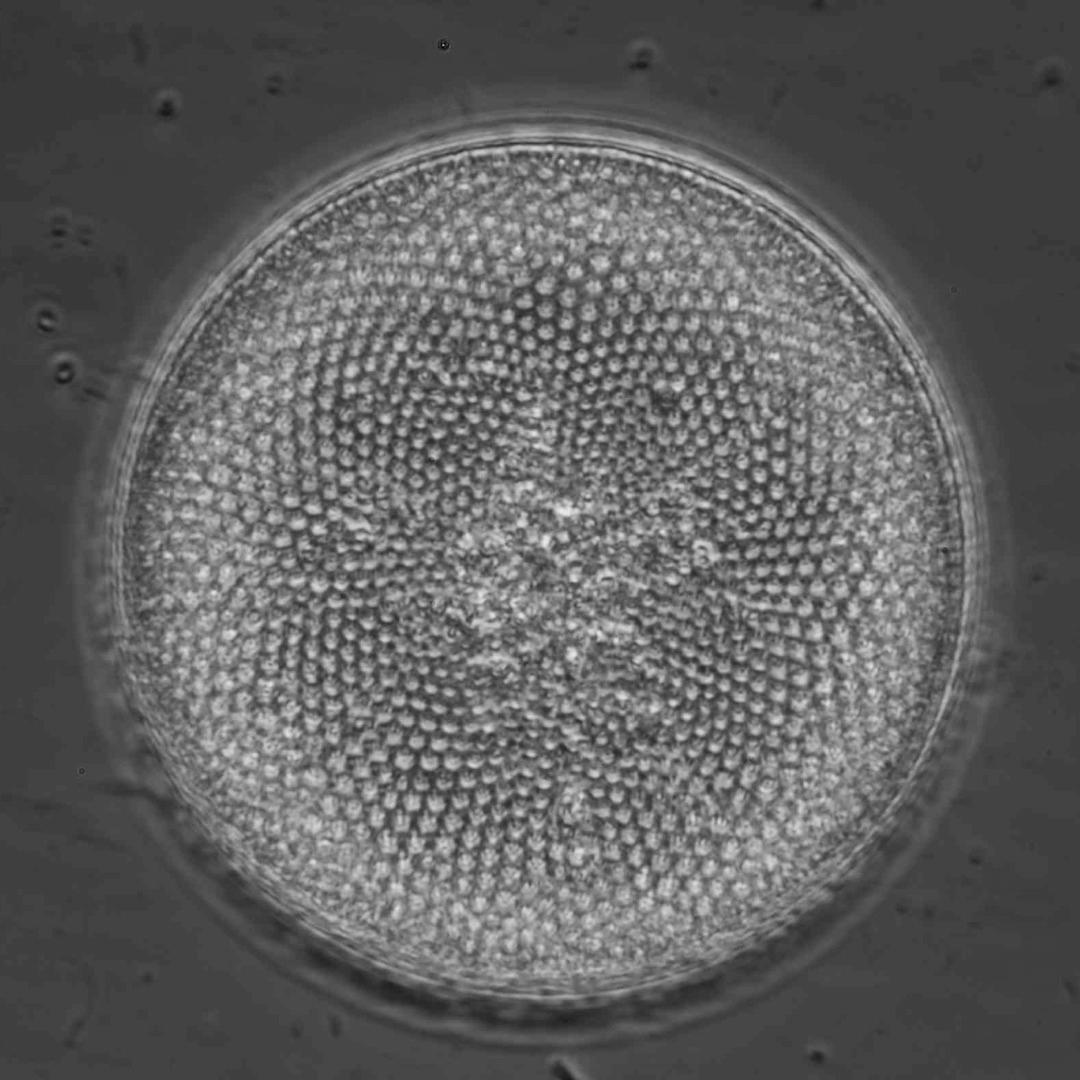coscinodiscus_oculus_iridis: (92, 124, 979, 1033)
